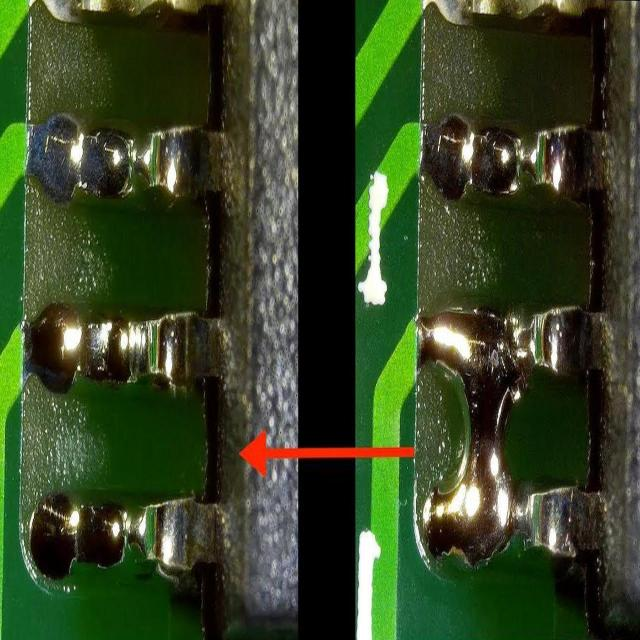Short_circuit: (416, 293, 520, 577)
